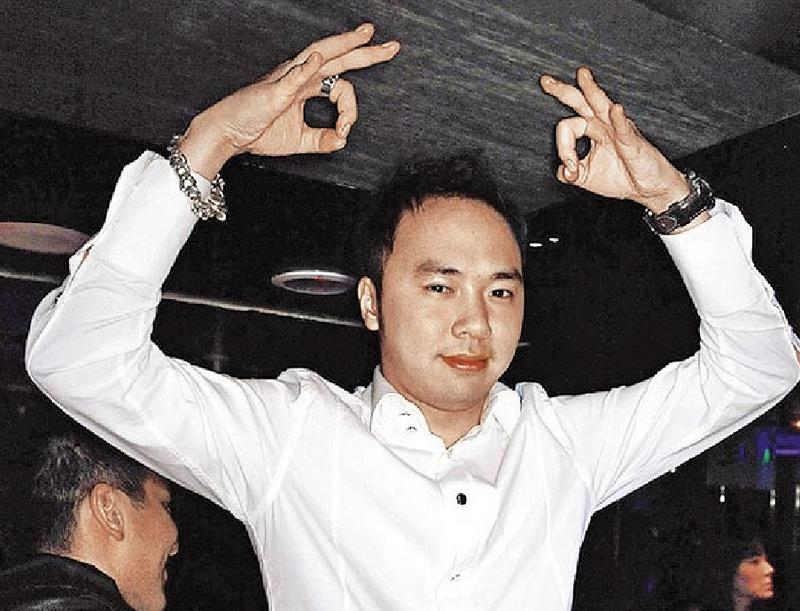people: (336, 163, 576, 611), (1, 413, 180, 611), (680, 526, 779, 611)
